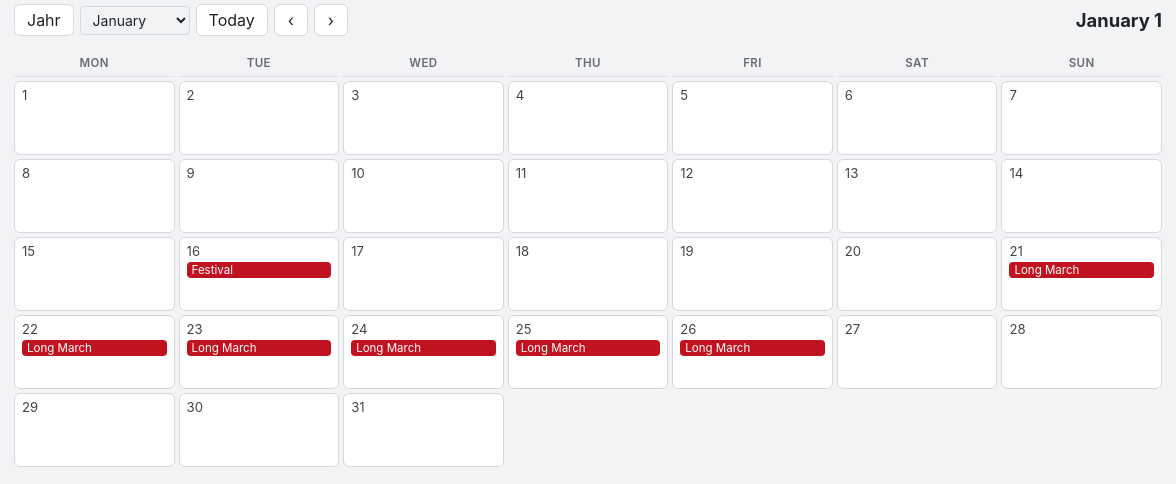
Test case: M5-S05 calendar month view › navigation › clicking next advances to the next month
expect the heading "January 1" is shown: met, box x1=1076 y1=9 x2=1162 y2=31
What coordinates should you click on to do the following:
click the button "›"
I would click on:
 (331, 20)
Its box is x1=314 y1=4 x2=348 y2=36.
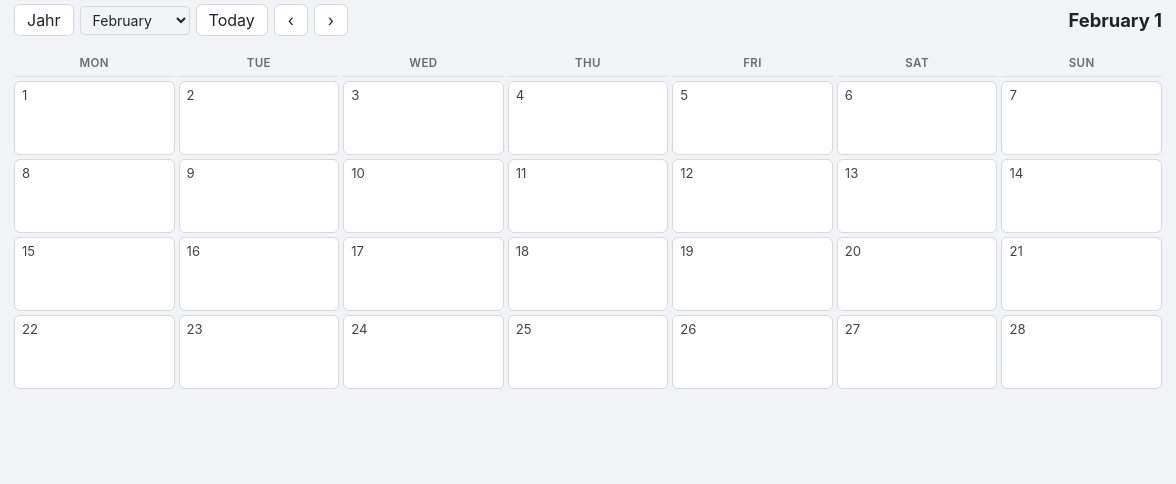
expect the heading "January 1" no longer shows "January 1": met
